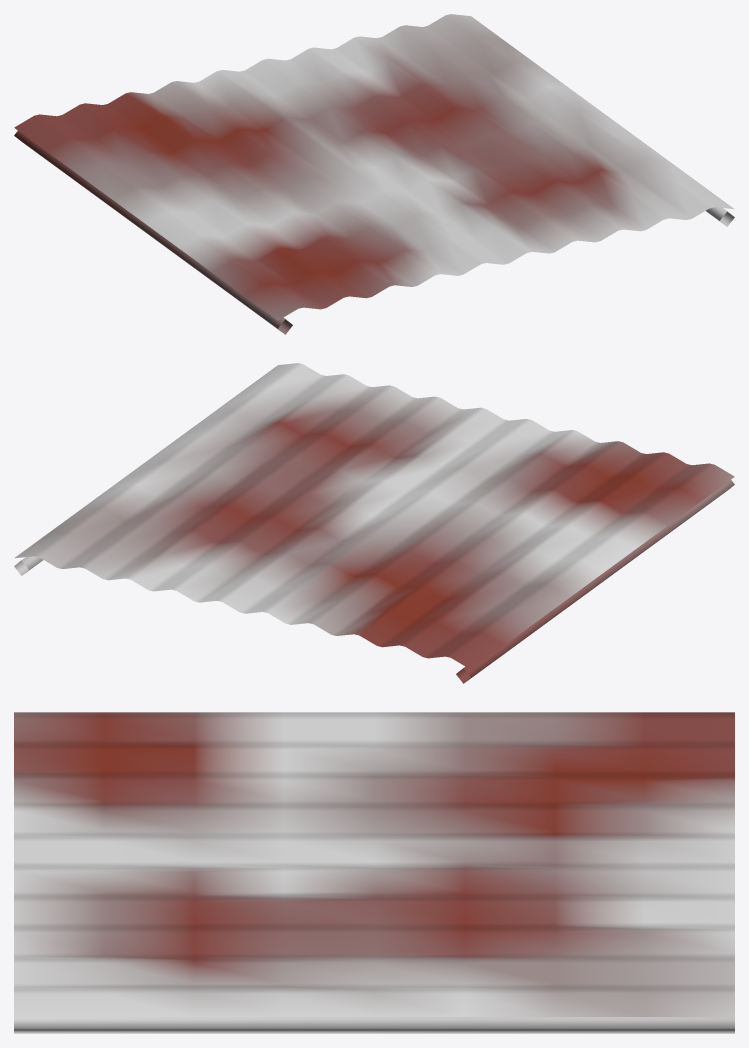
Rendered from MetalWalkway3M.fbx.
3 renders of one model, top to bottom at view 1: azimuth 30°, elevation 25°; view 2: azimuth 150°, elevation 25°; view 3: azimuth 270°, elevation 25°, orthographic. The views are drawn at different scales.
Visible parts, largest first — view 1: MetalWalkway3M; view 2: MetalWalkway3M; view 3: MetalWalkway3M.
Part boxes in pixels (x1,y1,x2,y2): MetalWalkway3M: (14,14,734,334); MetalWalkway3M: (14,363,734,683); MetalWalkway3M: (14,712,734,1033).
Size of the model in its own units: 3 by 0.1441 by 3.
